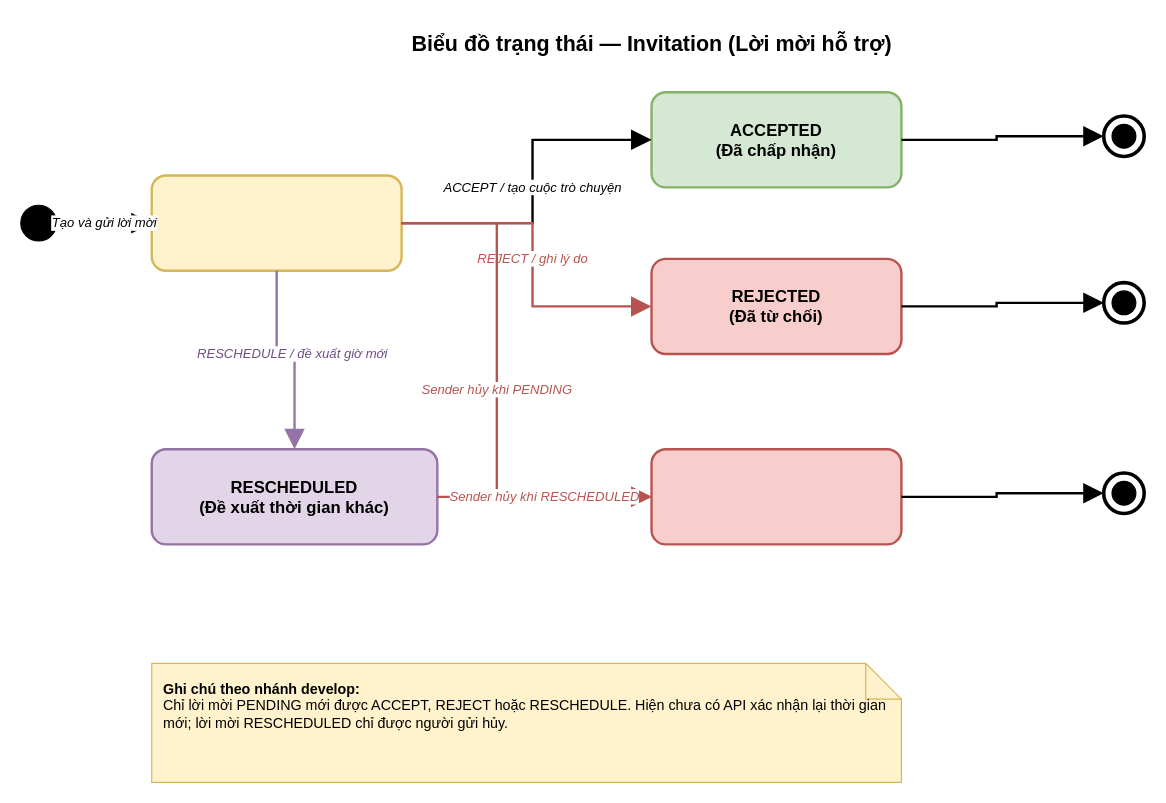
Image size: 1166x803. Some labels were removed from this diagram. The centre of each missing label's shape, as x and y in pixels:
"CANCELLED (Người gửi đã hủy)" goes at (776,496).
"PENDING (Chờ phản hồi)" goes at (276,222).
